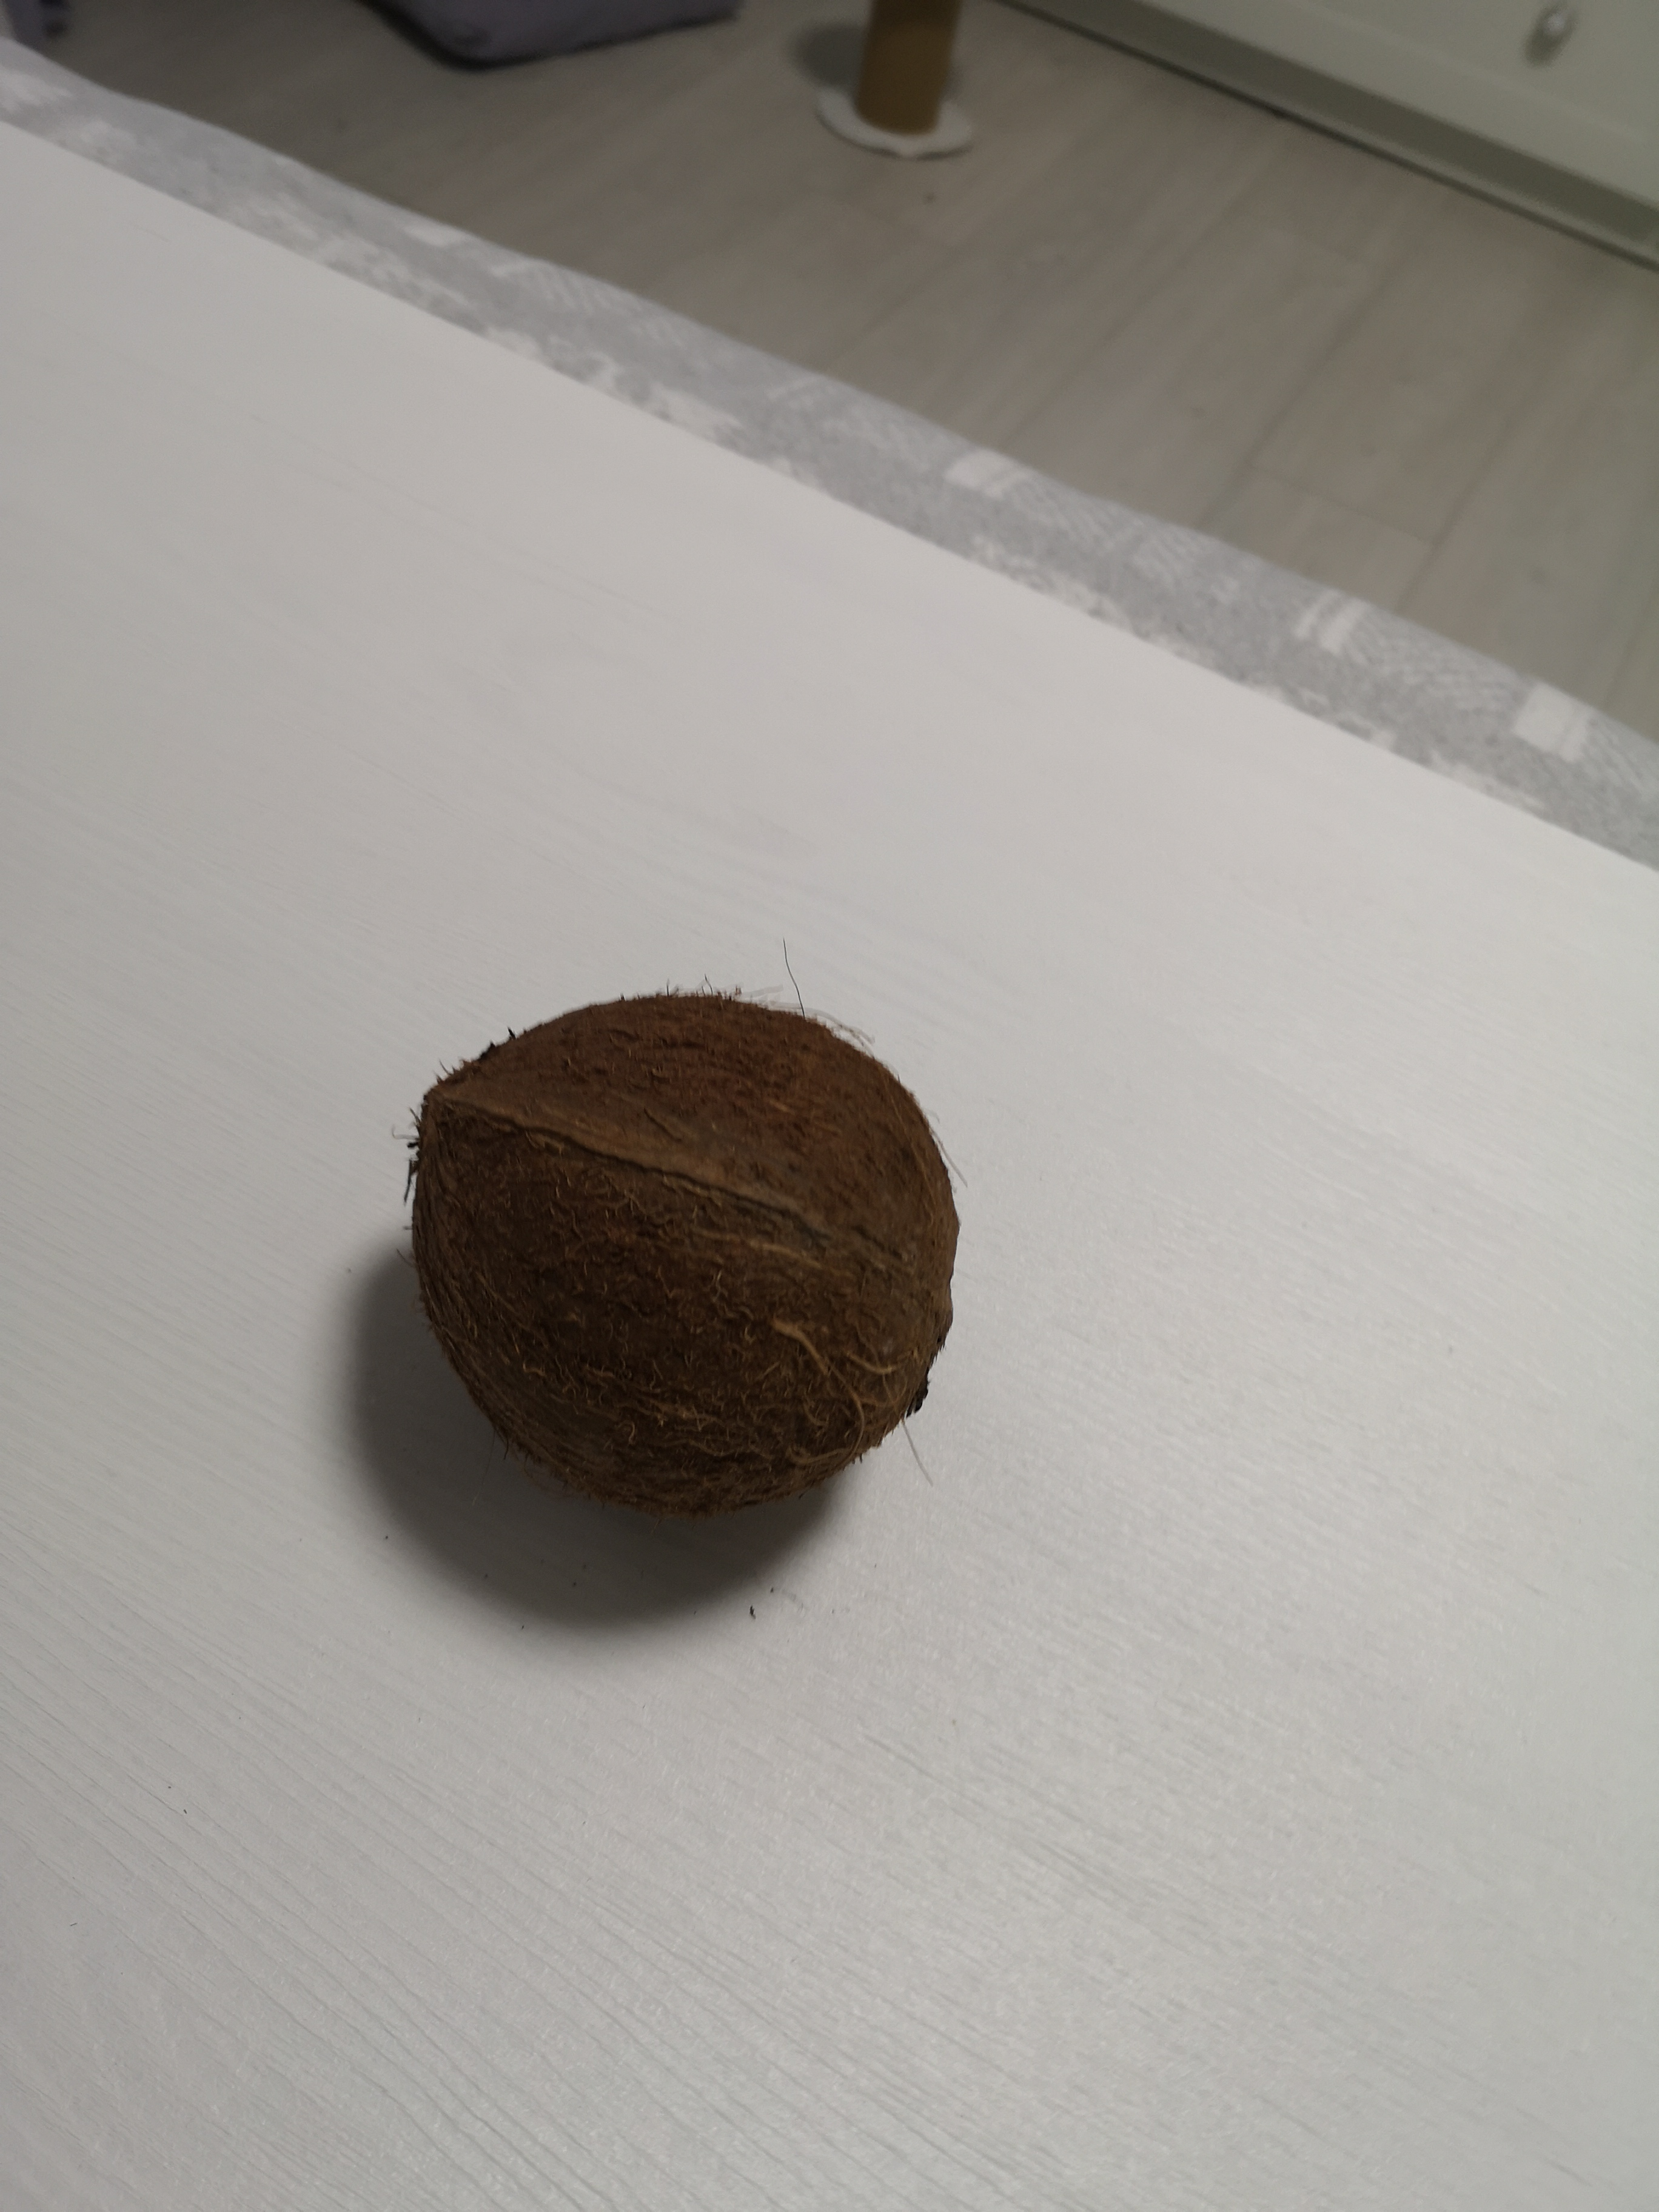coconut: (410, 988, 964, 1519)
